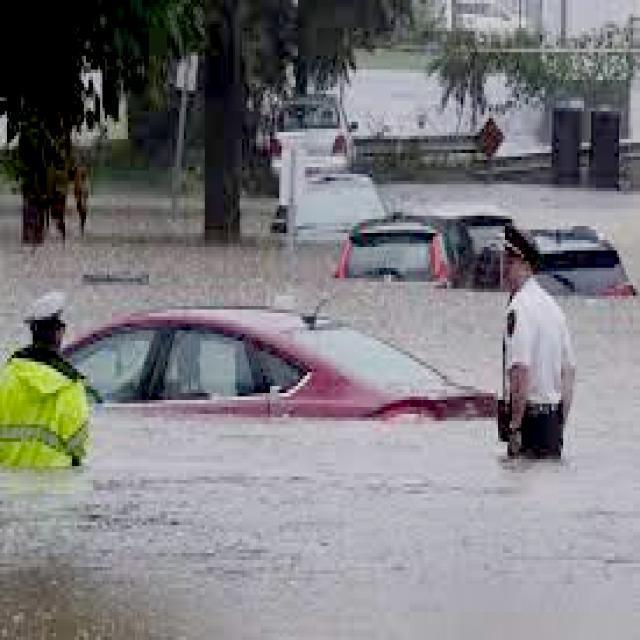water: (0, 295, 637, 638), (0, 155, 509, 392), (382, 185, 639, 293), (345, 48, 471, 137), (499, 90, 548, 155), (622, 73, 638, 144), (584, 90, 623, 110), (487, 77, 515, 104), (579, 84, 590, 144)
